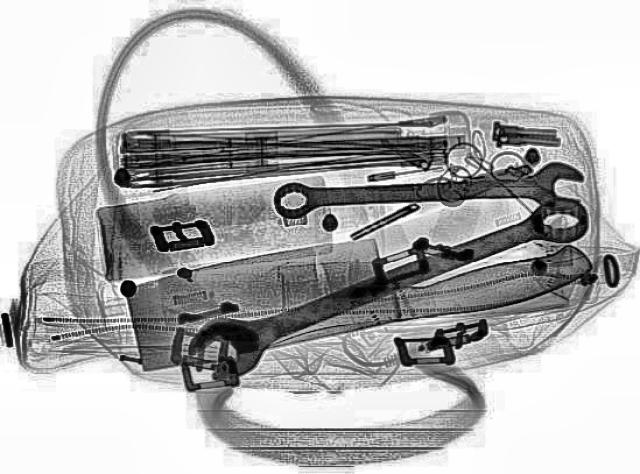Knife: (107, 199, 598, 371)
Wrench: (172, 184, 604, 384), (270, 160, 584, 222)
